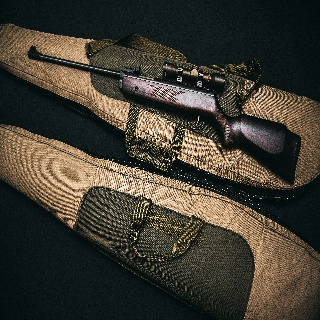rifle: (27, 42, 303, 187)
